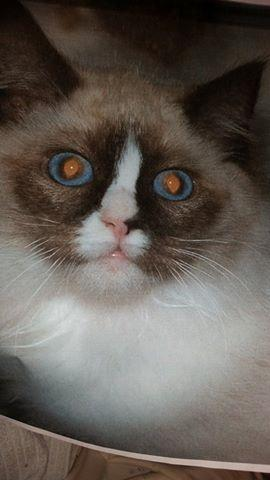ragdoll: (1, 1, 270, 326)
